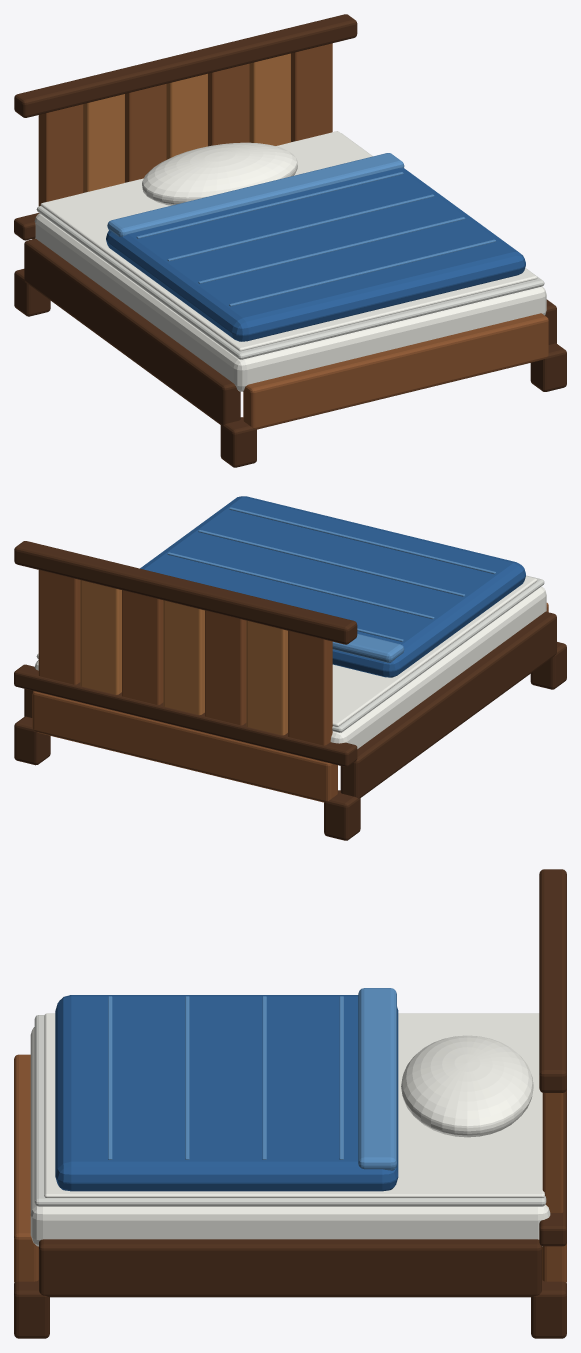
The model's file is WoodenSingleBed.glb.
3 renders of one model, top to bottom at view 1: azimuth 30°, elevation 25°; view 2: azimuth 150°, elevation 25°; view 3: azimuth 270°, elevation 25°, orthographic. The views are drawn at different scales.
Parts seen in each view (by area): view 1: BlueDuvet, FootRail, Mattress, SideRailLeft, SheetTop, HeadboardFrameTop, Pillow01, DuvetFold, FittedSheet, HeadboardSlat01, HeadboardSlat02, HeadboardSlat07 (+11 smaller); view 2: BlueDuvet, HeadRail, SideRailLeft, HeadboardFrameTop, HeadboardFrameBottom, Mattress, HeadboardSlat01, HeadboardSlat07, HeadboardSlat02, HeadboardSlat03, HeadboardSlat04, HeadboardSlat06 (+10 smaller); view 3: BlueDuvet, SideRailRight, SheetTop, Mattress, Pillow01, DuvetFold, FittedSheet, HeadboardFrameTop, FootRail, HeadboardSlat07, LegRightFoot, LegRightHead (+6 smaller).
Part boxes in pixels (x1,y1,x2,y2): BlueDuvet: (106,168,525,341); FootRail: (243,313,548,429); Mattress: (34,213,546,391); SideRailLeft: (24,238,240,425); SheetTop: (40,131,537,351); HeadboardFrameTop: (14,14,357,117); Pillow01: (142,142,297,205); DuvetFold: (107,153,404,236); FittedSheet: (36,133,544,359); HeadboardSlat01: (38,104,83,213); HeadboardSlat02: (83,94,124,192); HeadboardSlat07: (291,43,332,141); BlueDuvet: (140,496,525,677); HeadRail: (32,691,337,802); SideRailLeft: (340,611,556,798); HeadboardFrameTop: (14,541,357,644); HeadboardFrameBottom: (14,664,357,766); Mattress: (34,586,546,748); HeadboardSlat01: (288,630,332,745); HeadboardSlat07: (38,570,80,684); HeadboardSlat02: (246,620,287,735); HeadboardSlat03: (205,610,246,725); HeadboardSlat04: (163,600,204,714); HeadboardSlat06: (80,580,121,694); BlueDuvet: (55,995,398,1191); SideRailRight: (39,1239,541,1297); SheetTop: (44,1013,544,1197); Mattress: (30,1027,550,1246); Pillow01: (401,1035,533,1137); DuvetFold: (358,988,396,1170); FittedSheet: (34,1015,546,1206); HeadboardFrameTop: (539,869,566,1092); FootRail: (14,1054,38,1282); HeadboardSlat07: (542,1093,563,1212); LegRightFoot: (14,1280,49,1338); LegRightHead: (531,1280,566,1338).
Bounding box in the file's own units: 3.5 × 2.14 × 4.
